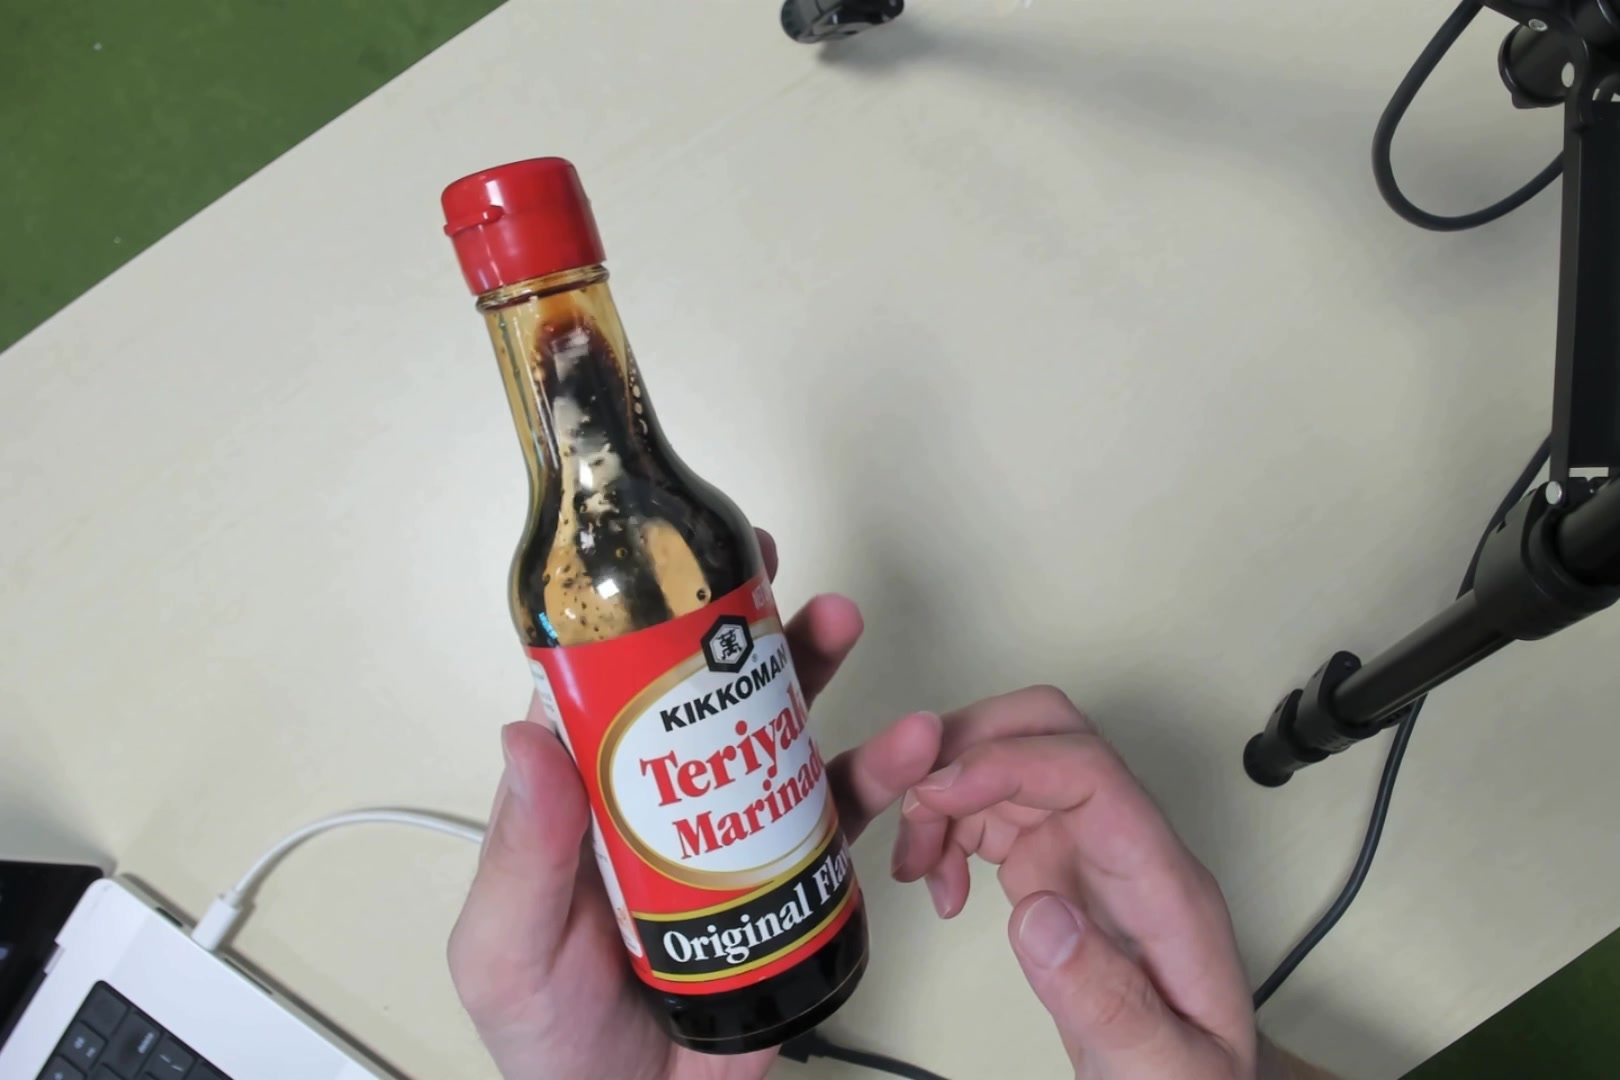OtherSauceDressingSoupbasePaste_200-299g_NonHalal_NonHealthy: (468, 184, 875, 1008)
